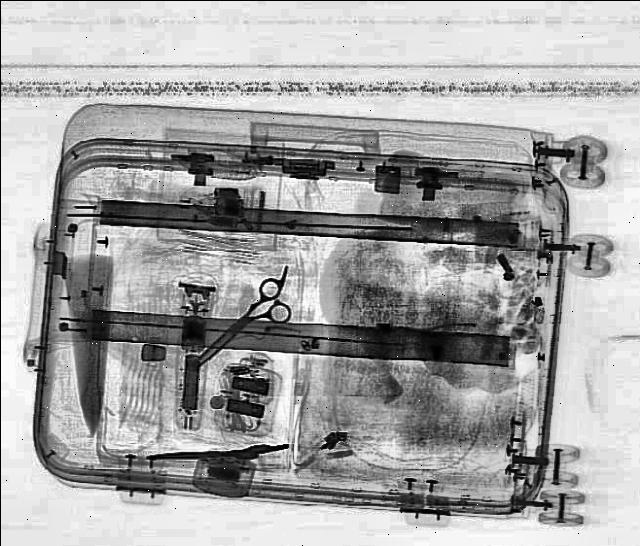Scissors: (176, 274, 306, 376)
